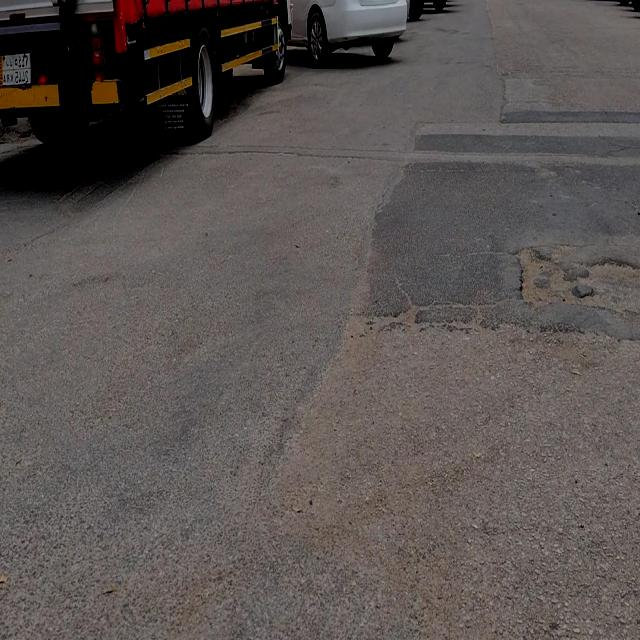Potholes: (513, 245, 574, 310), (585, 261, 640, 312)
